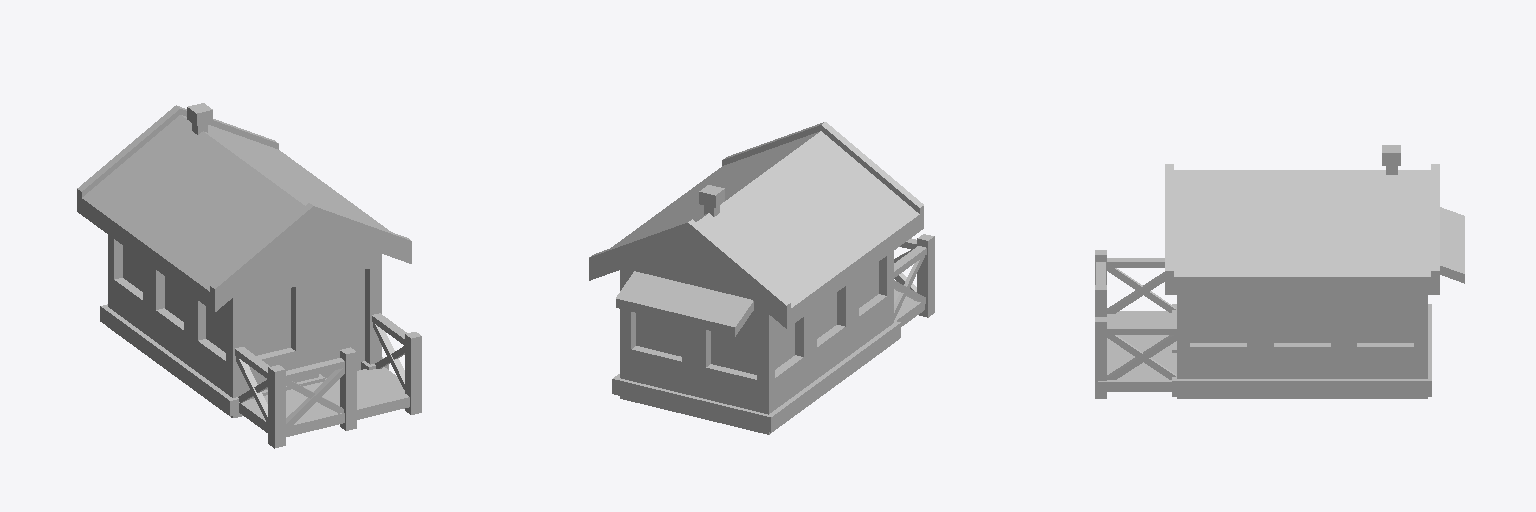
Rendered from SM_Bld_Signal_Tower_02.obj.
3 renders of one model, left to right at view 1: azimuth 30°, elevation 25°; view 2: azimuth 150°, elevation 25°; view 3: azimuth 270°, elevation 25°, orthographic.
Visible parts, largest first — view 1: SM_Bld_Signal_Tower_02:Mesh; view 2: SM_Bld_Signal_Tower_02:Mesh; view 3: SM_Bld_Signal_Tower_02:Mesh.
Boxes of the visible parts, x1=… form: SM_Bld_Signal_Tower_02:Mesh: x1=77, y1=103, x2=421, y2=448; SM_Bld_Signal_Tower_02:Mesh: x1=589, y1=122, x2=934, y2=434; SM_Bld_Signal_Tower_02:Mesh: x1=1095, y1=145, x2=1464, y2=398.
Size of the model in its own units: 6.84 by 7.07 by 11.11.